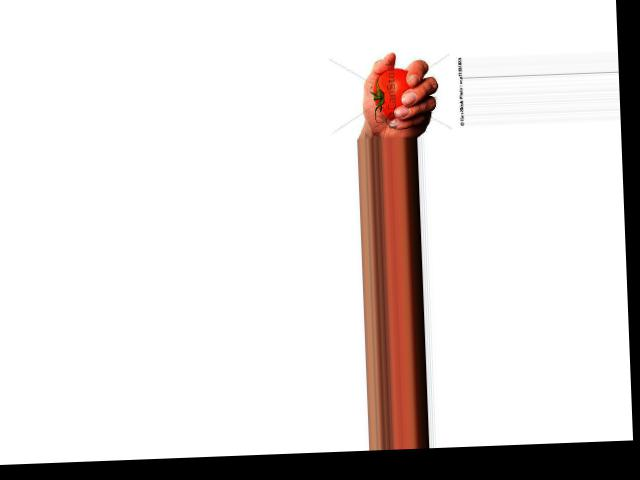tomato: (373, 67, 410, 119)
